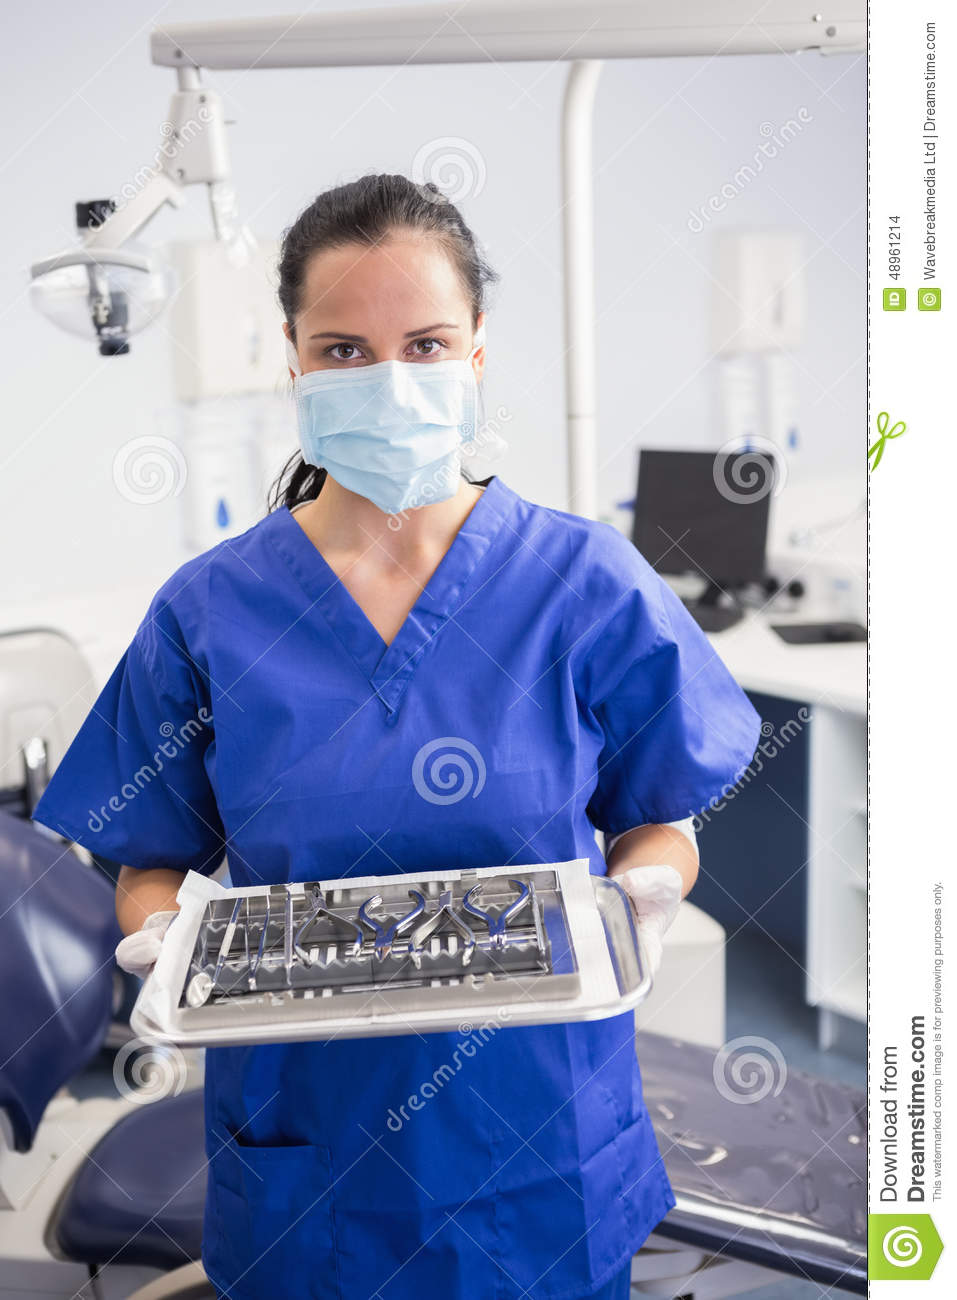mask: (294, 365, 486, 495)
